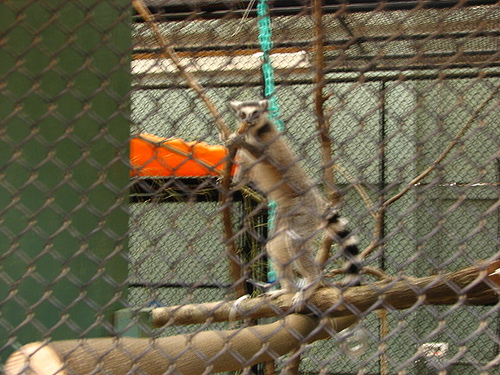cat: (219, 94, 366, 326)
